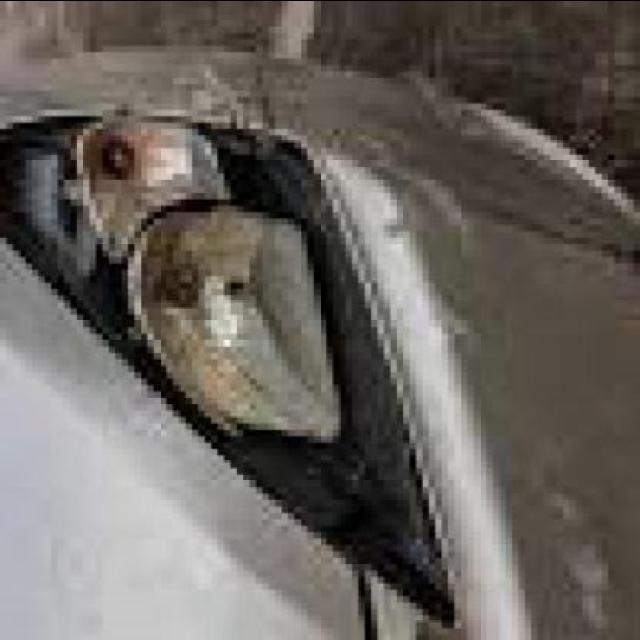Headlight-Damage: (0, 64, 461, 602)
